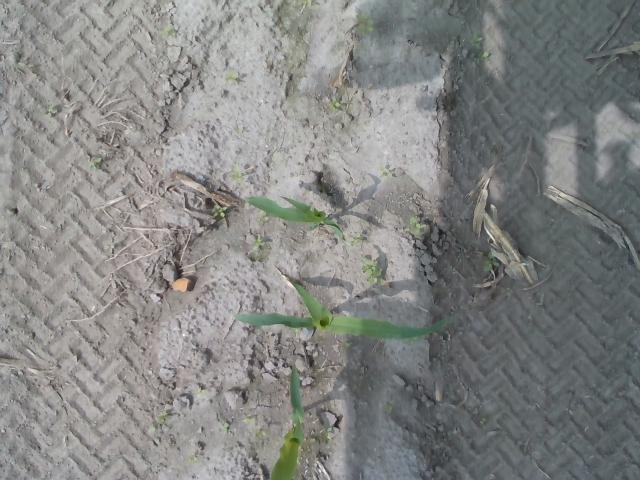Maize: (234, 278, 451, 342), (244, 195, 344, 241), (268, 362, 306, 480)
Weeds: (360, 258, 385, 286), (468, 30, 489, 59), (358, 14, 374, 36), (408, 216, 423, 234), (328, 96, 342, 111), (346, 234, 361, 248), (256, 210, 270, 224), (186, 455, 202, 467), (212, 205, 226, 218), (234, 171, 247, 184), (162, 26, 175, 38), (87, 157, 101, 168), (482, 256, 492, 271), (253, 237, 265, 248), (156, 412, 168, 423), (224, 72, 237, 81), (299, 0, 311, 9), (46, 104, 56, 114), (378, 169, 392, 176), (222, 422, 230, 432)
